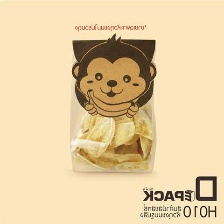snack: (61, 28, 168, 178)
